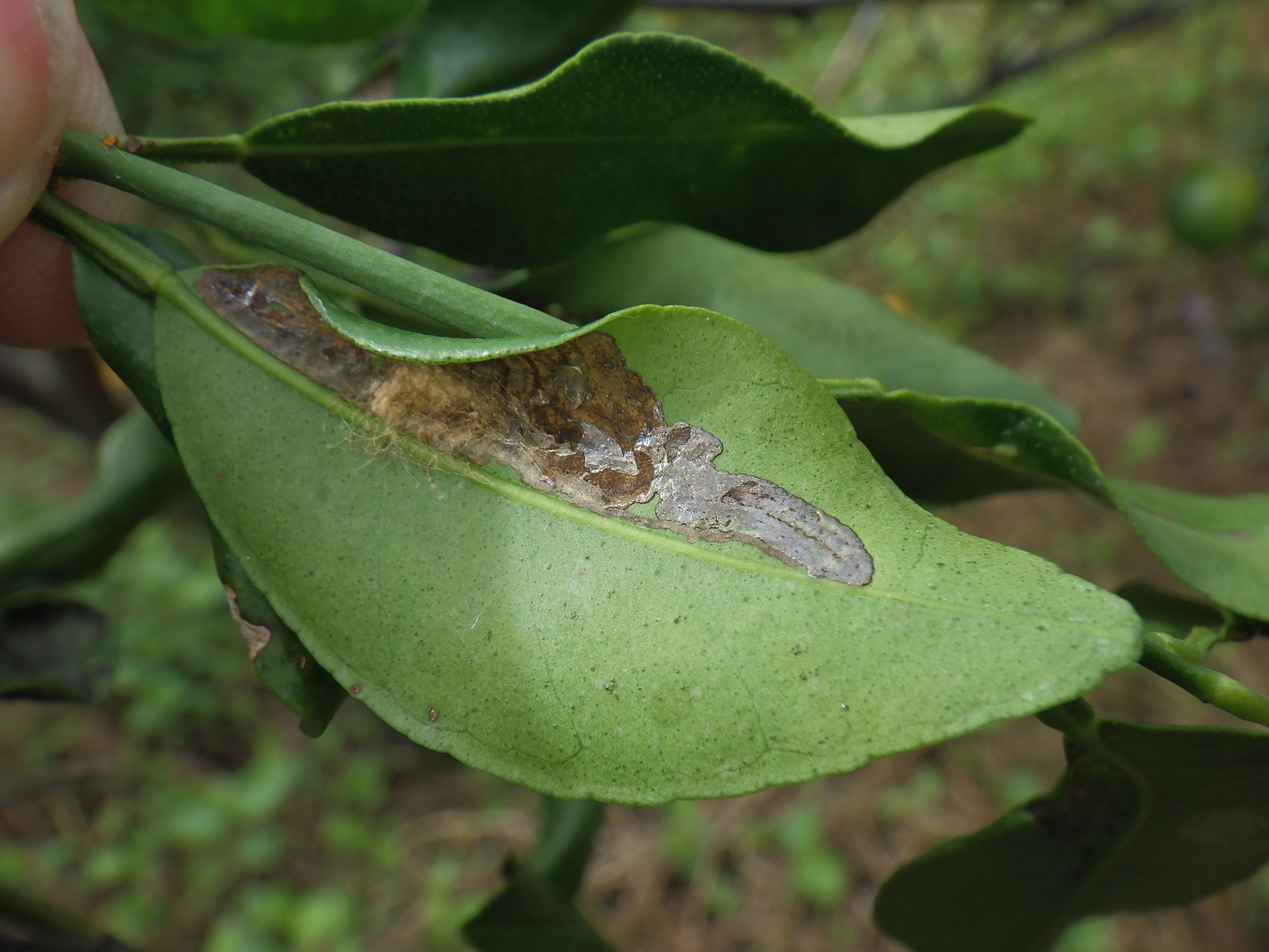Citrus_Leaf_Miner: (199, 268, 872, 586)
